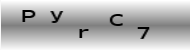7: (136, 25, 151, 40)
C: (109, 13, 124, 27)
P: (20, 9, 36, 23)
r: (77, 27, 90, 39)
y: (48, 9, 64, 24)
